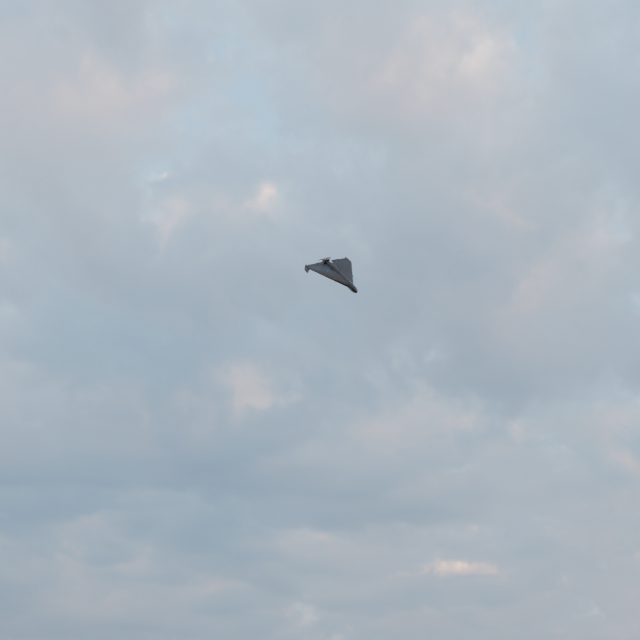shahed: (304, 257, 358, 294)
